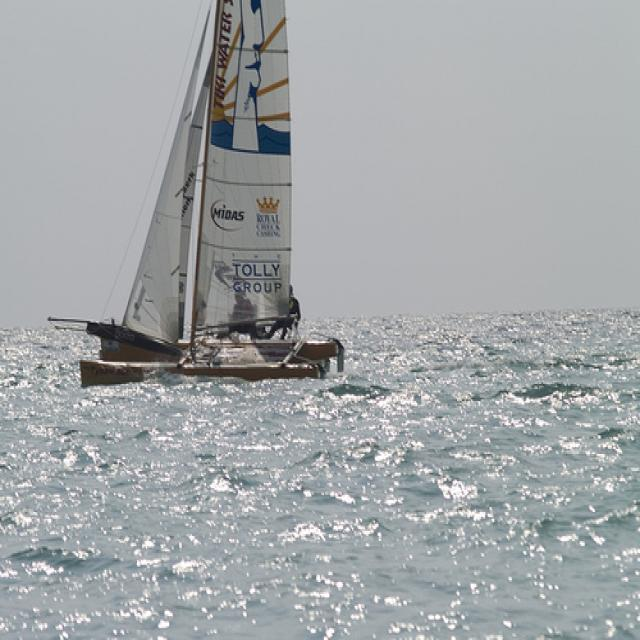Ship: (70, 1, 343, 387)
